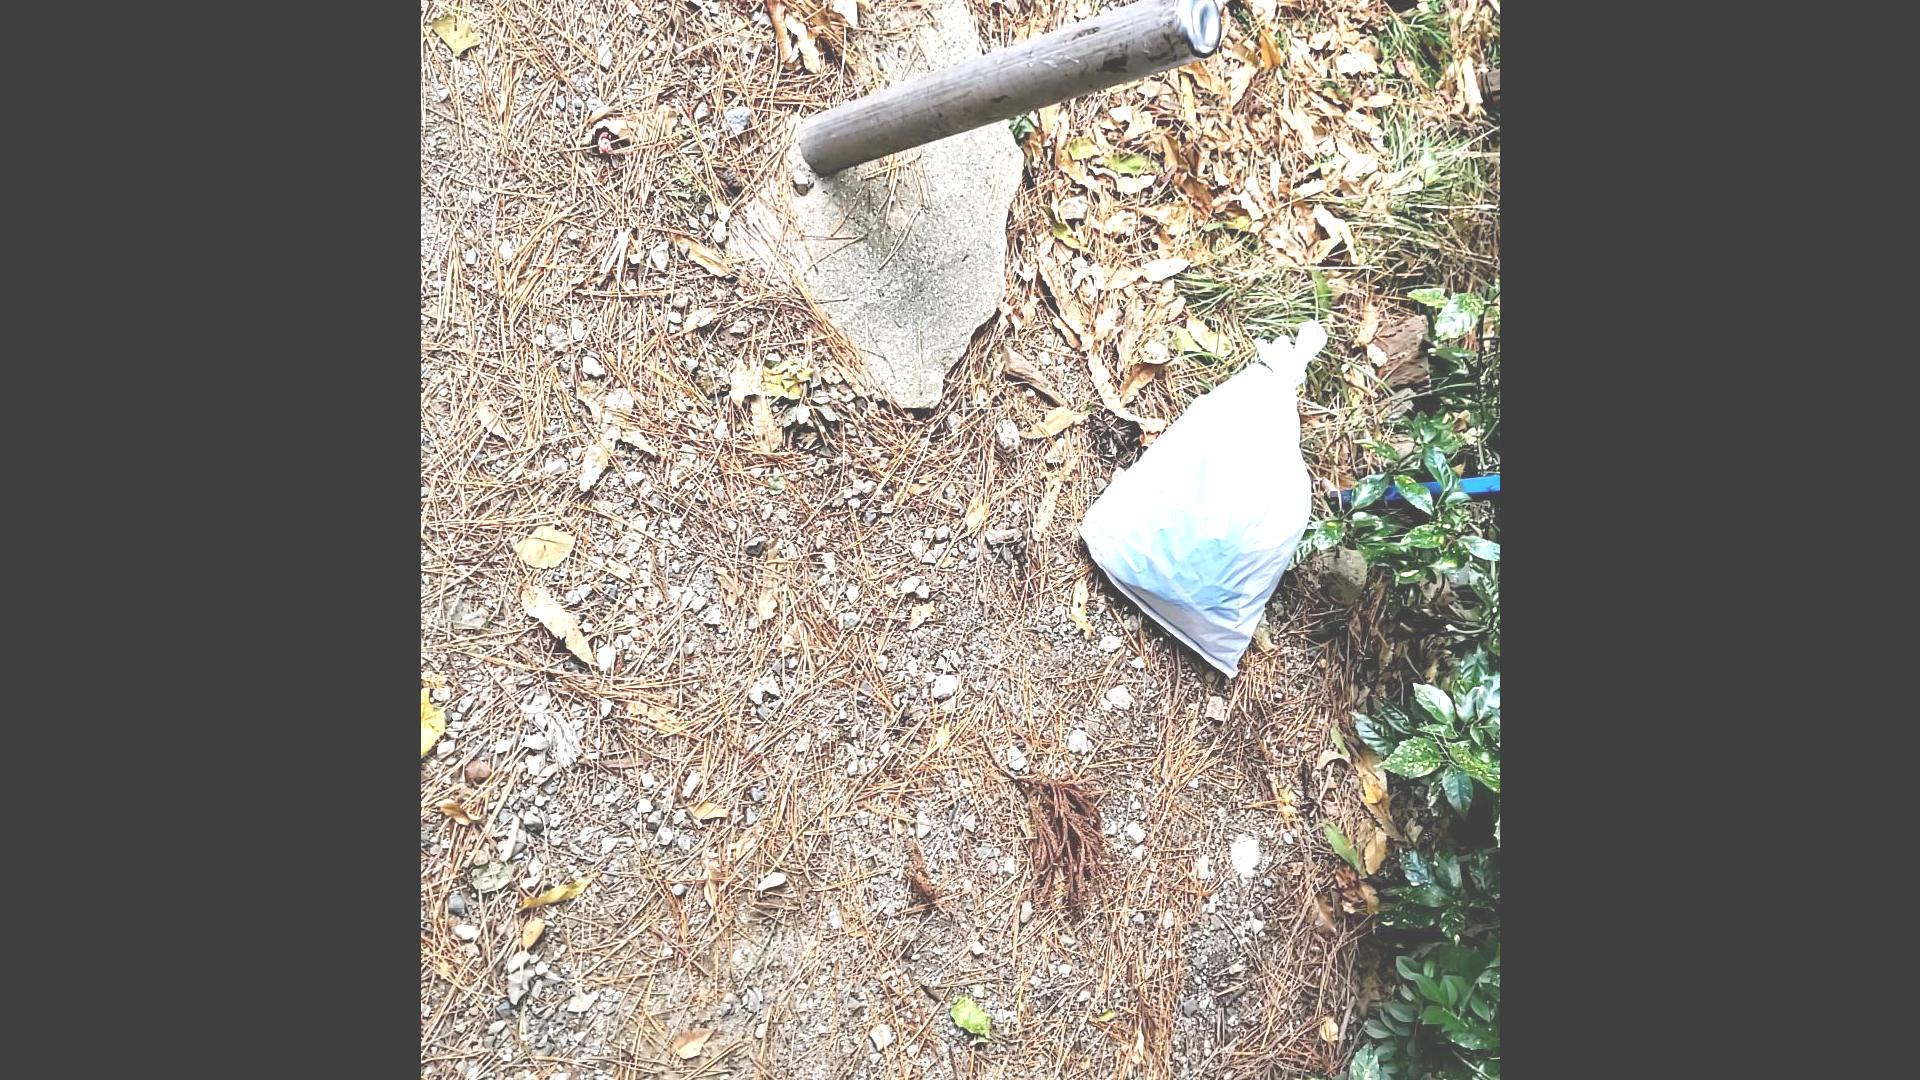white_bag: (1068, 301, 1346, 698)
